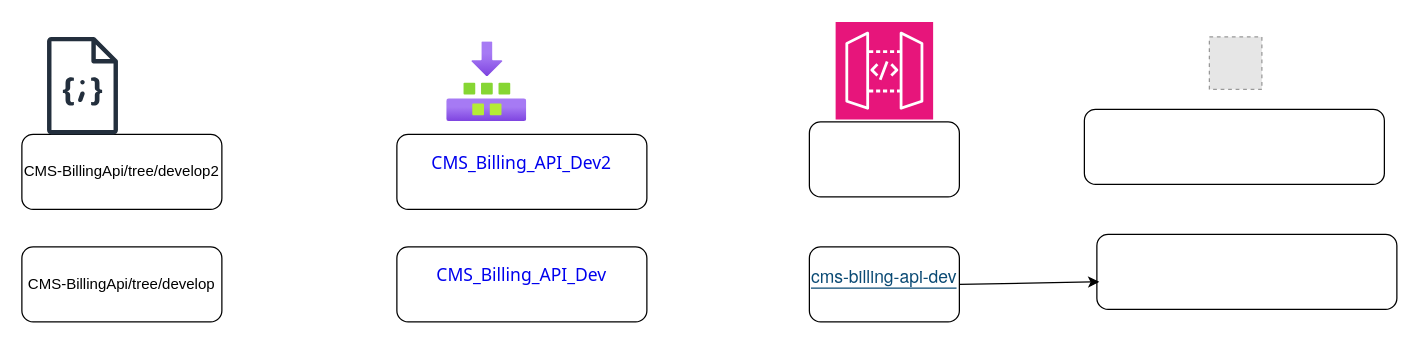
Image size: 1419x344. Some labels were removed from this diagram. Grey dashed boxes stand in for pictures. The shapes that lost their labels are listed below. From the top down, each one's centre as x and y in pixels, then its label:
At point 883,159: "cms-billing-api-dev2".
At point 1246,271: "api-dev.smx.awscmsxcap2np.com".
